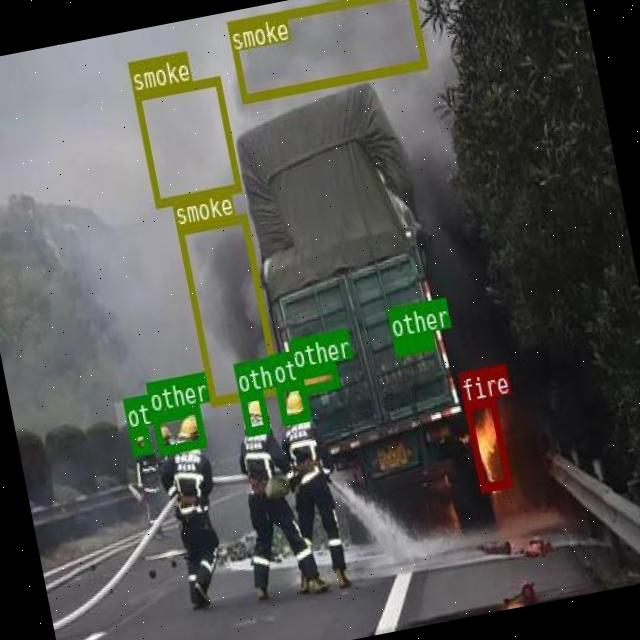fire: (464, 398, 511, 492)
smoke: (225, 0, 426, 102), (177, 214, 280, 406), (133, 75, 241, 207)
